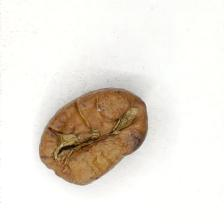NG: (52, 103, 139, 166)
